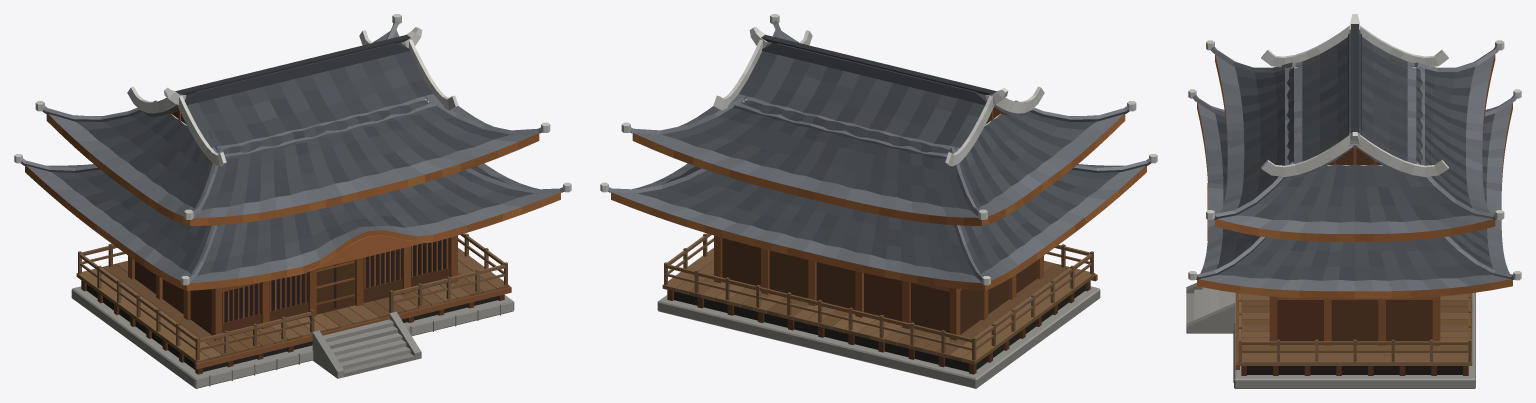
The model's file is zen_temple.glb.
The picture shows the model from 3 angles, left to right: view 1: azimuth 30°, elevation 25°; view 2: azimuth 150°, elevation 25°; view 3: azimuth 270°, elevation 25°; orthographic projection. The views are drawn at different scales.
Parts seen in each view (by area): view 1: zen_temple; view 2: zen_temple; view 3: zen_temple.
Boxes of the visible parts, x1,y1,x2,y2 form: zen_temple: (14,14,571,388); zen_temple: (600,14,1157,388); zen_temple: (1186,14,1521,388).
Bounding box in the file's own units: 17.14 × 10.42 × 13.16.
